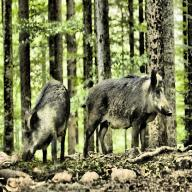boar: (75, 75, 192, 177), (10, 70, 86, 163)
